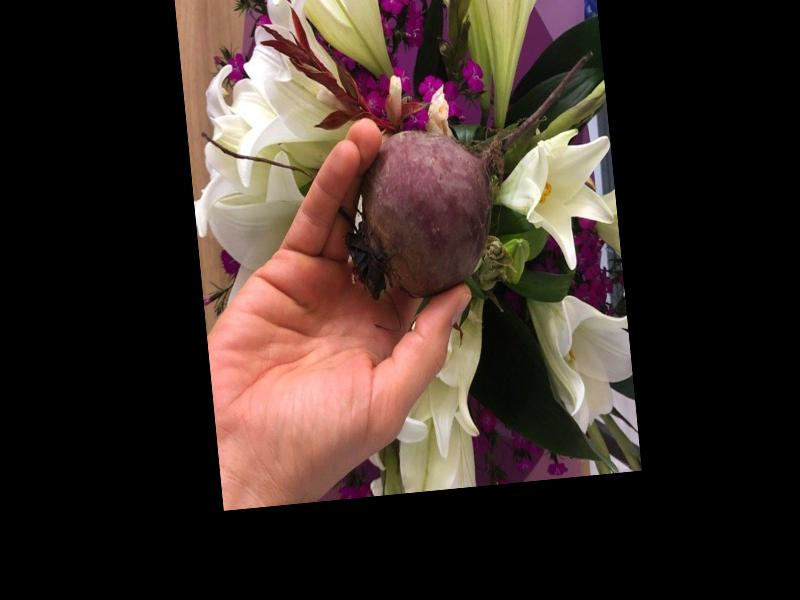Beet: (331, 50, 612, 303)
